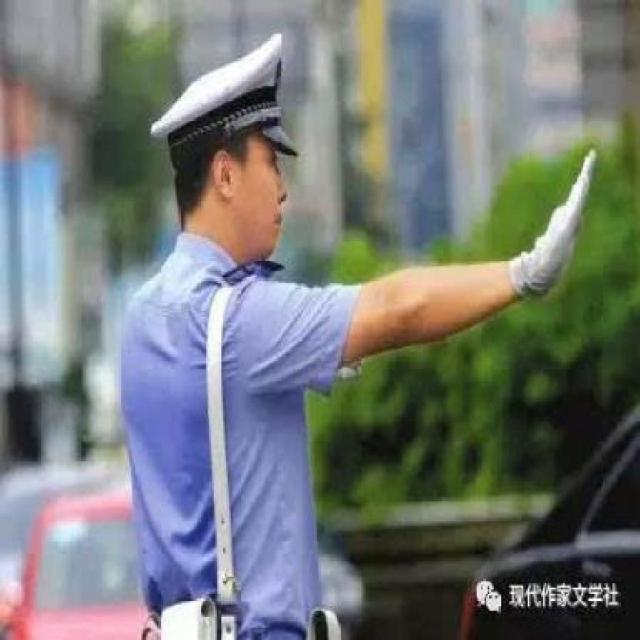face_nomask: (217, 135, 308, 268)
hand_glove: (503, 142, 600, 310)
head_nohelmet: (148, 31, 301, 158)
person: (88, 60, 457, 640)
